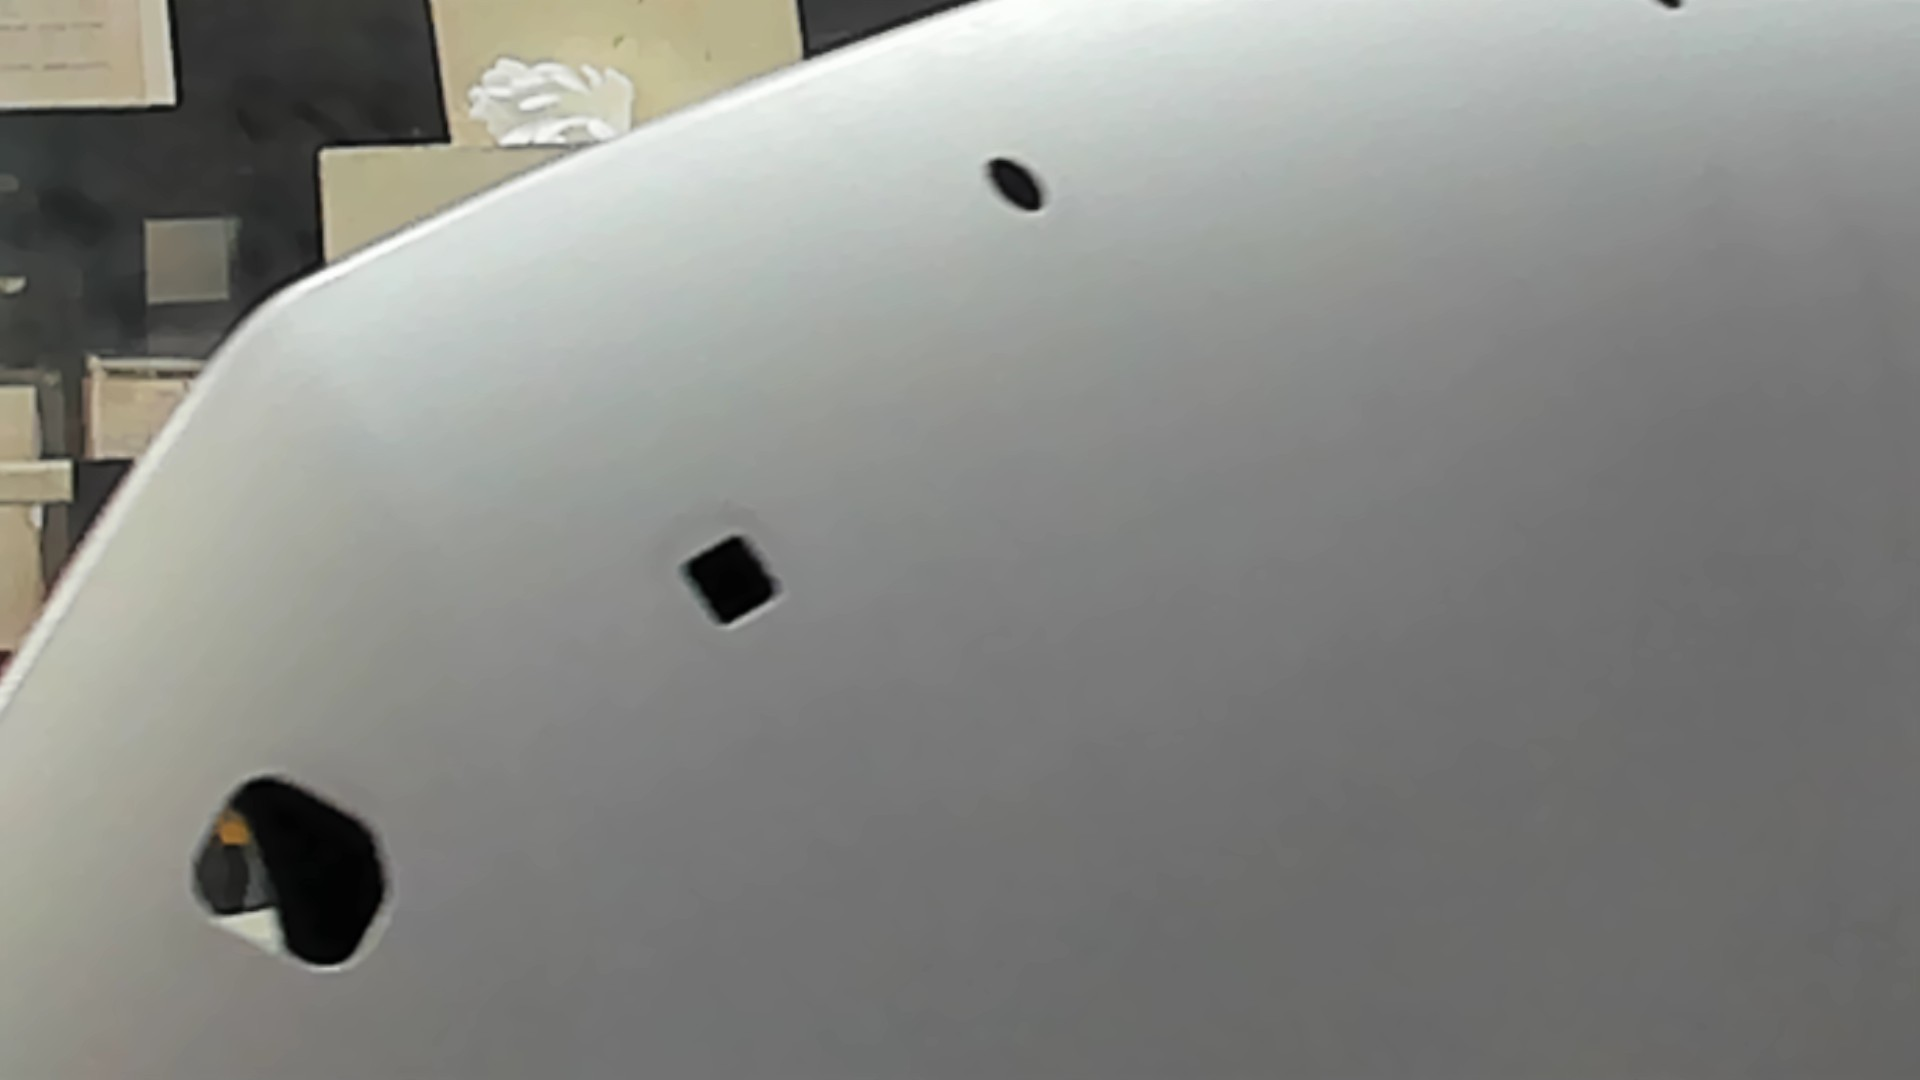Agujero: (676, 534, 783, 630), (981, 156, 1047, 211)
Agujerote: (189, 771, 394, 977)
